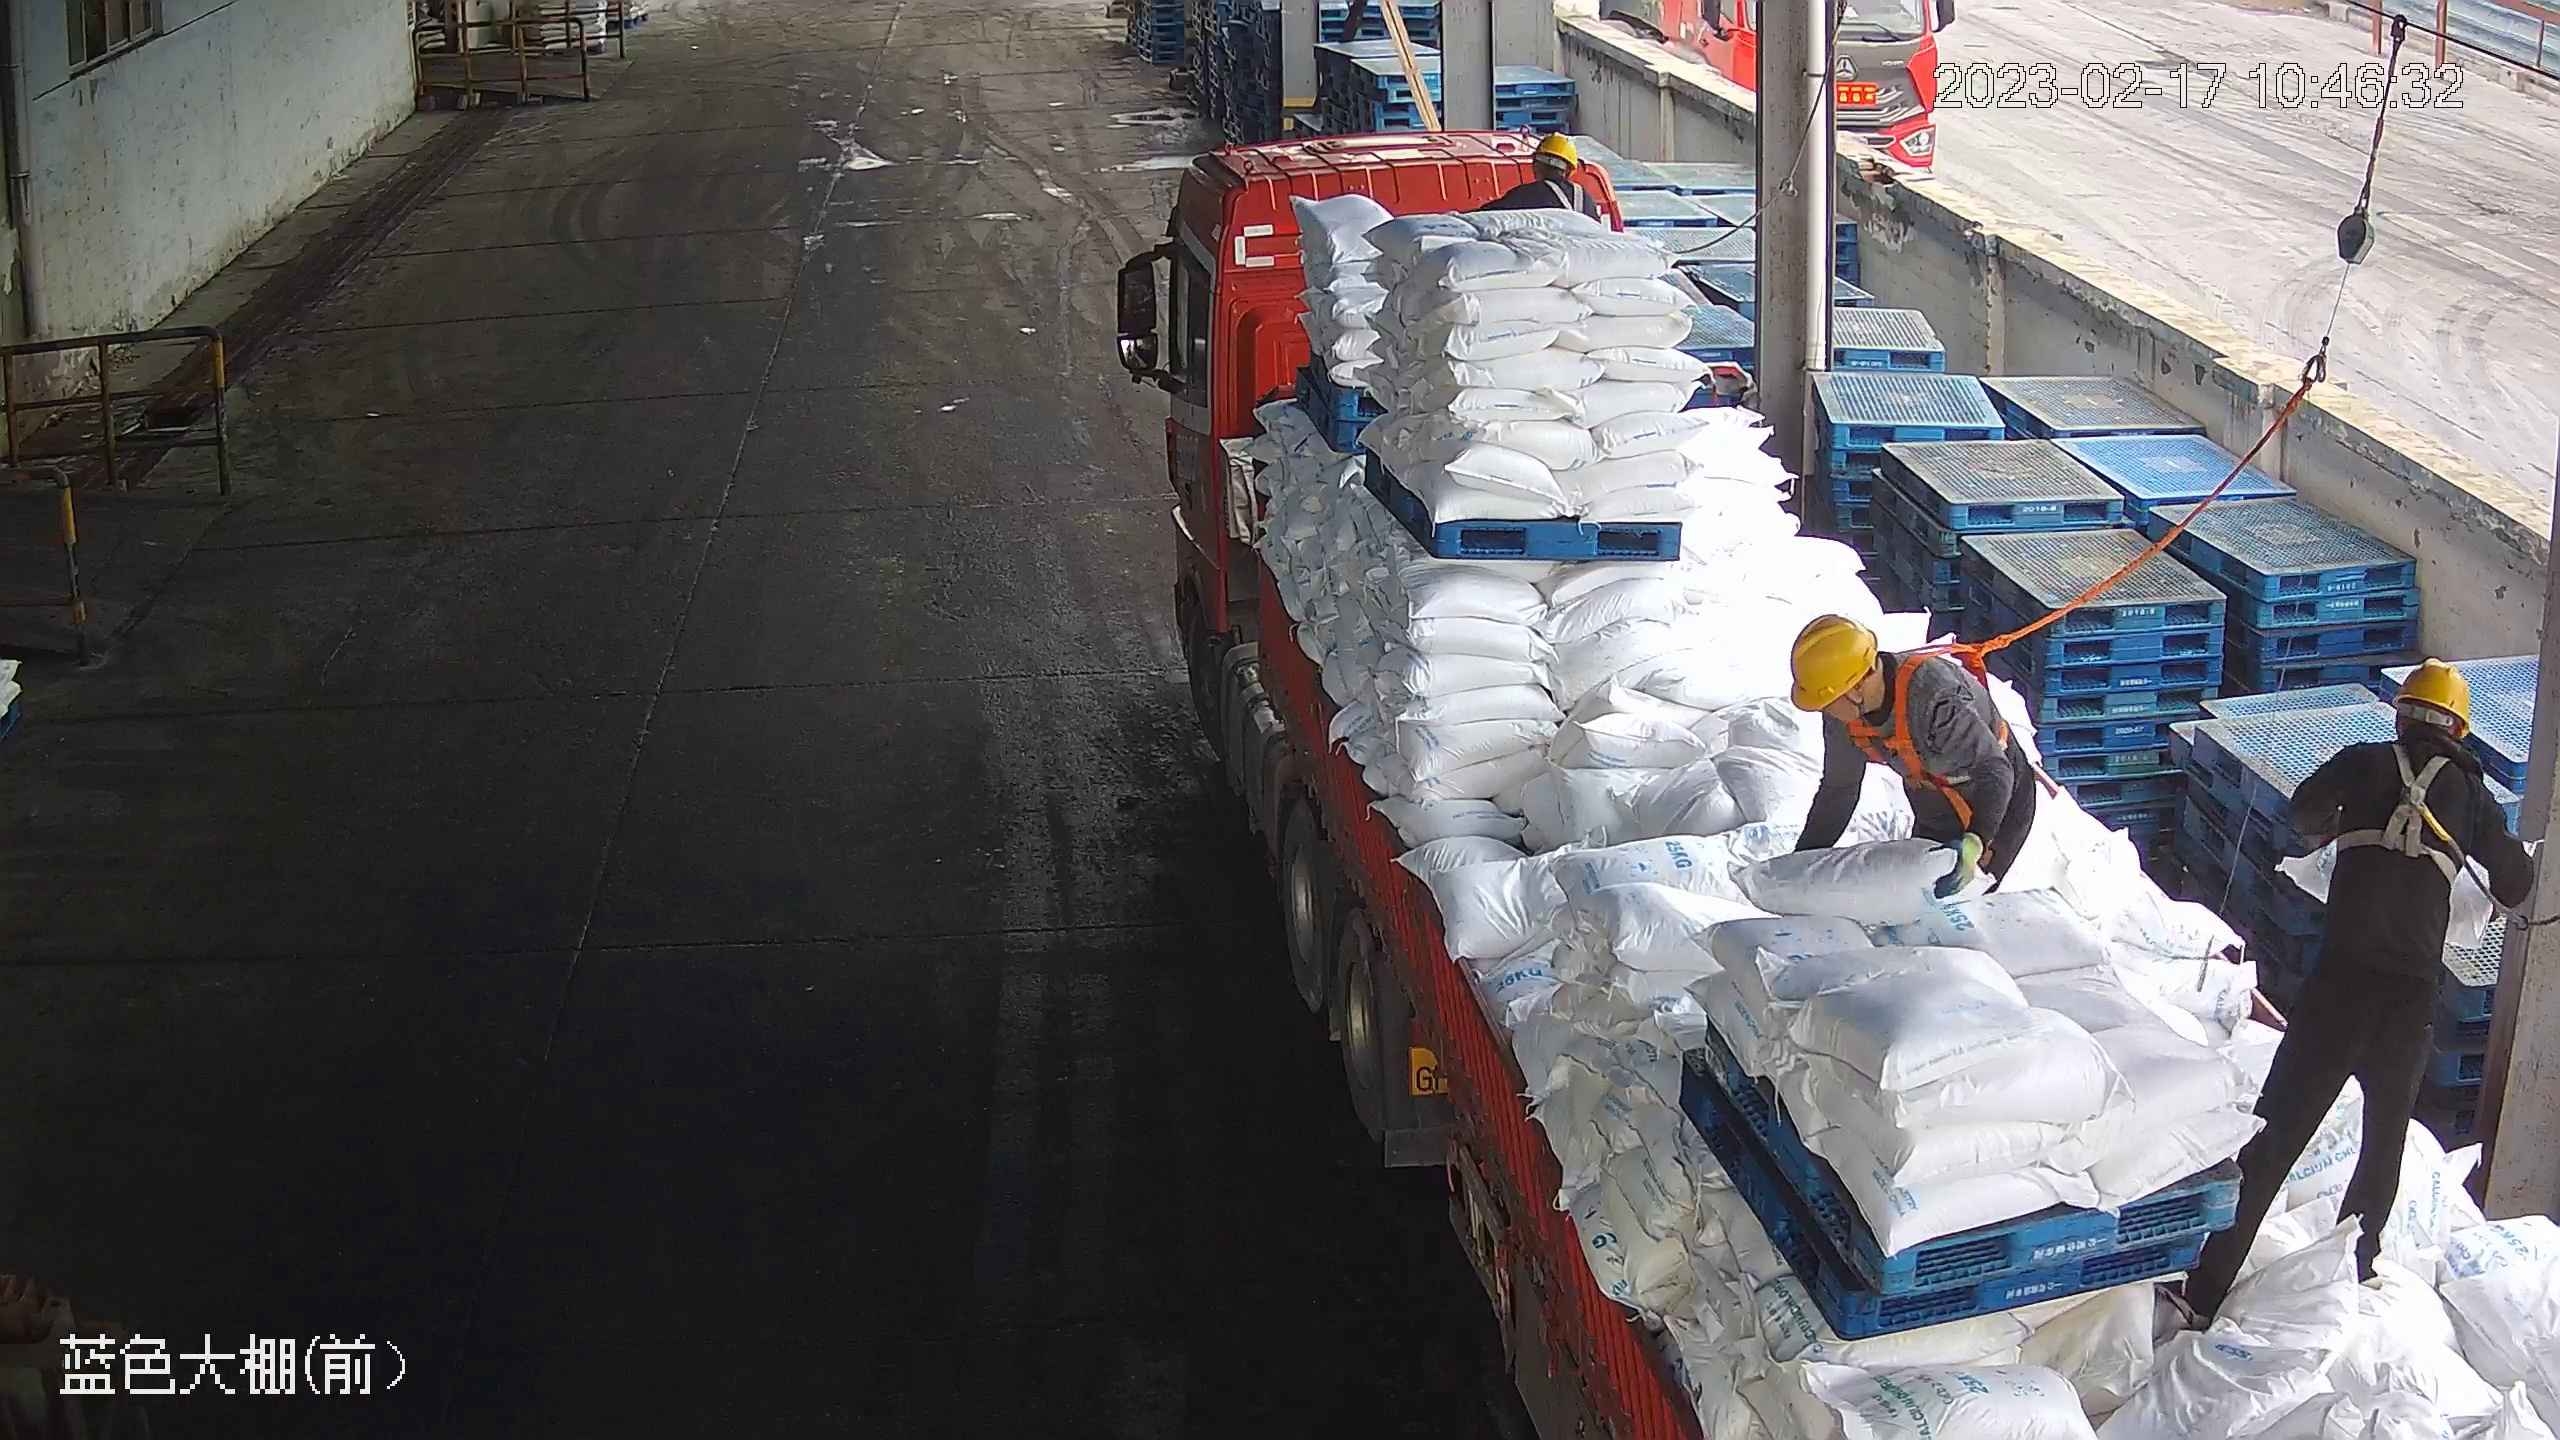belt: (1852, 639, 2025, 815), (2334, 742, 2488, 894), (1532, 174, 1591, 218)
head: (2320, 662, 2518, 861), (1788, 615, 1957, 791), (1496, 132, 1596, 211)
helmet: (1786, 618, 1881, 711), (2386, 664, 2476, 735), (1532, 130, 1574, 178)
people: (2181, 664, 2534, 1345), (1791, 615, 2039, 905)
truck: (1113, 132, 2560, 1440)
